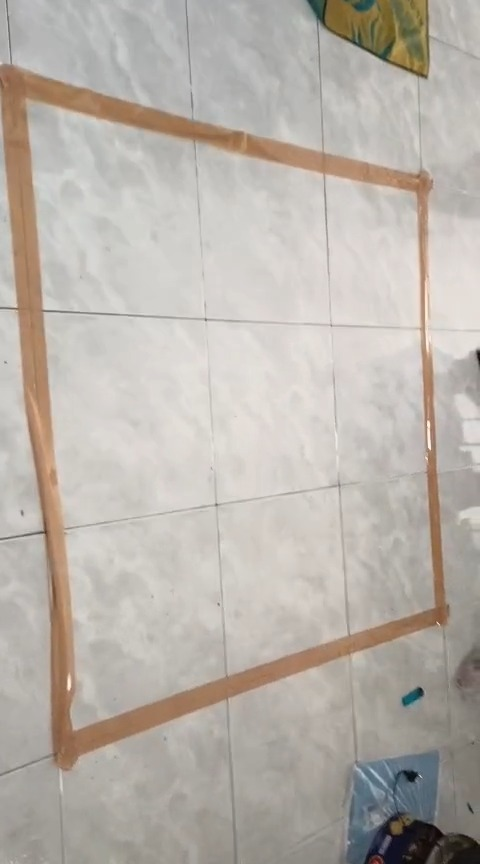floor marking: (1, 64, 447, 768)
